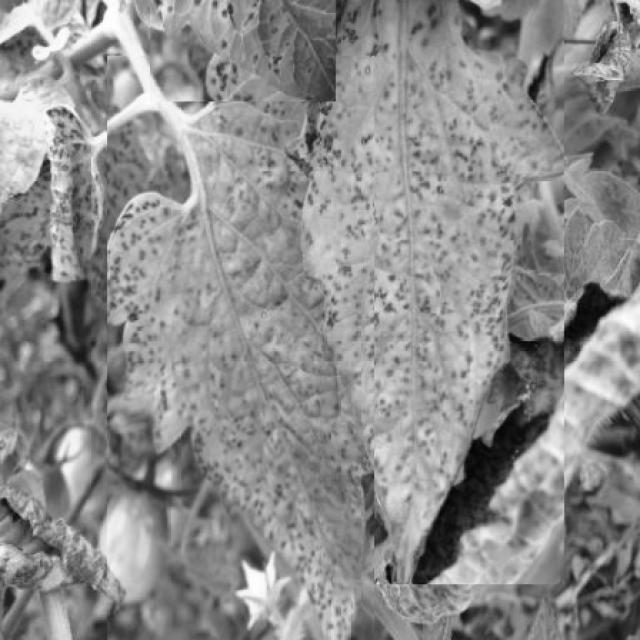Septoria: (285, 0, 564, 584), (107, 55, 374, 640), (150, 0, 335, 101), (43, 105, 106, 288)
